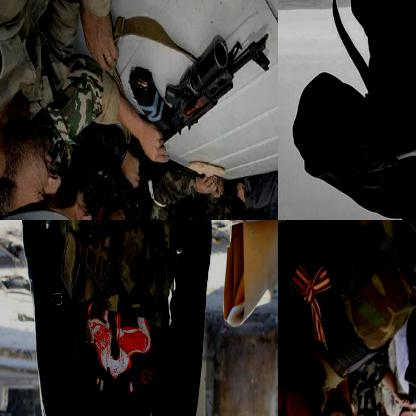rifle: (133, 28, 272, 154)
